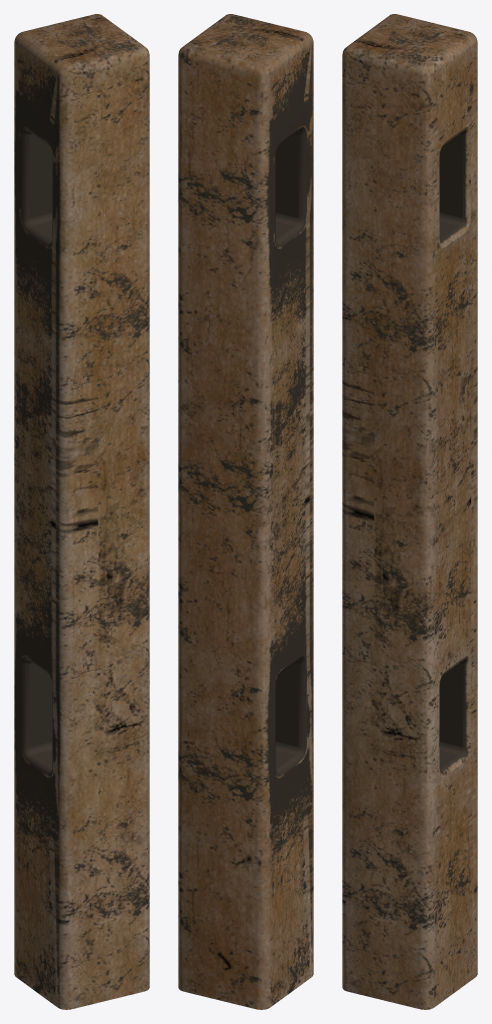
Rendered from wood_fence_stick.glb.
3 renders of one model, left to right at view 1: azimuth 30°, elevation 25°; view 2: azimuth 150°, elevation 25°; view 3: azimuth 330°, elevation 25°, orthographic.
Parts seen in each view (by area): view 1: wood_fence_stick; view 2: wood_fence_stick; view 3: wood_fence_stick.
Part boxes in pixels (<box>): wood_fence_stick: <box>14,14,149,1009</box>; wood_fence_stick: <box>178,14,313,1009</box>; wood_fence_stick: <box>342,14,477,1009</box>.
Bounding box in the file's own units: 0.1 × 1 × 0.1.
1 material, 1 textured.
